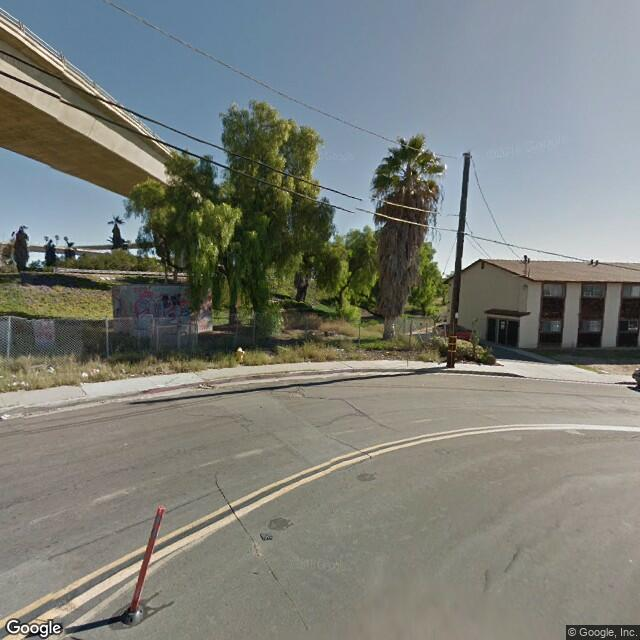litter: (6, 378, 31, 387), (41, 360, 54, 373), (75, 369, 88, 378)
